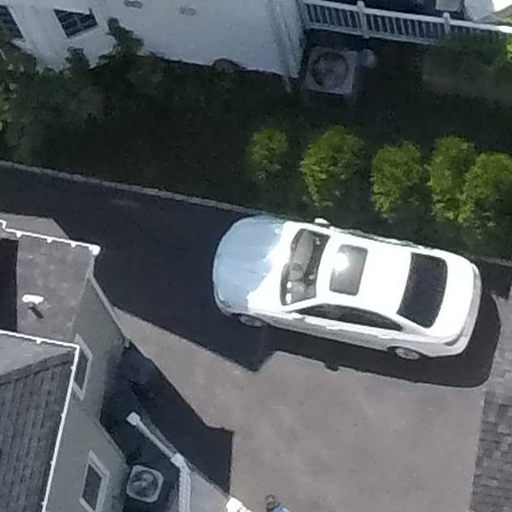air conditioner: (294, 40, 377, 117)
car: (196, 186, 493, 379)
trash bin: (109, 347, 178, 403)
